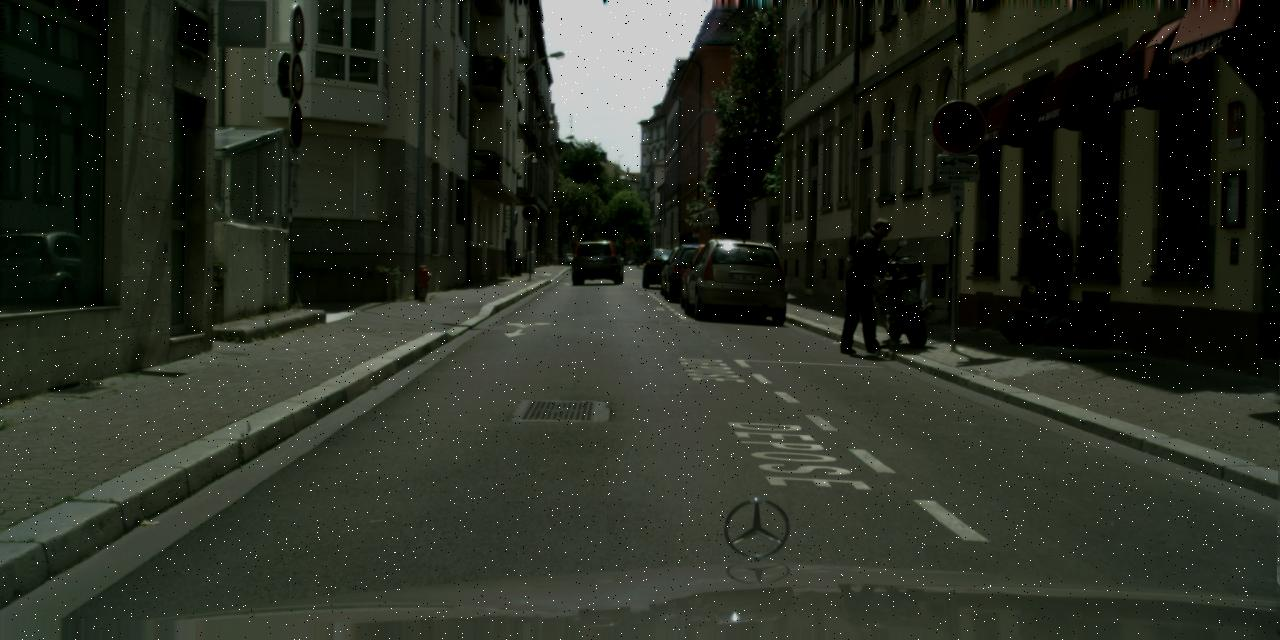ped: (1012, 208, 1068, 344), (846, 218, 900, 352)
